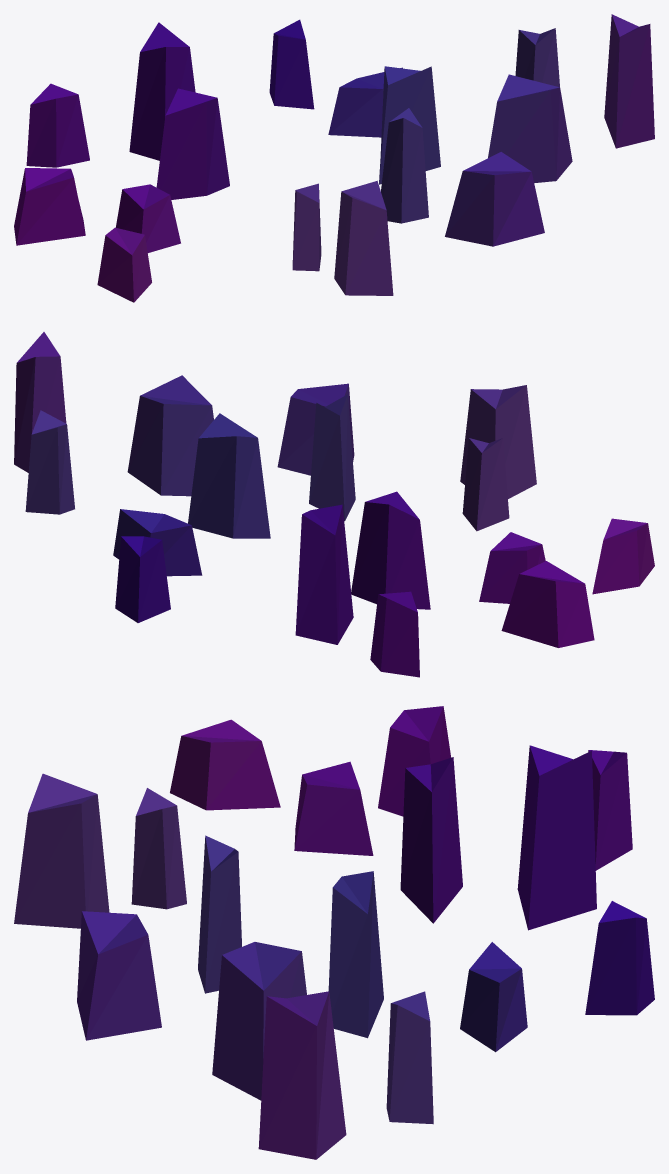
File: SM_CinderCanyon_Debris.fbx
The picture shows the model from 3 angles, top to bottom: view 1: azimuth 30°, elevation 25°; view 2: azimuth 150°, elevation 25°; view 3: azimuth 270°, elevation 25°; orthographic projection. The views are drawn at different scales.
Parts seen in each view (by area): view 1: SM_CinderCanyon_Debris; view 2: SM_CinderCanyon_Debris; view 3: SM_CinderCanyon_Debris.
Part boxes in pixels (x1,y1,x2,y2): SM_CinderCanyon_Debris: (14,14,654,302); SM_CinderCanyon_Debris: (14,332,654,677); SM_CinderCanyon_Debris: (14,706,654,1159).
Bounding box in the file's own units: 100 × 70 × 20.
